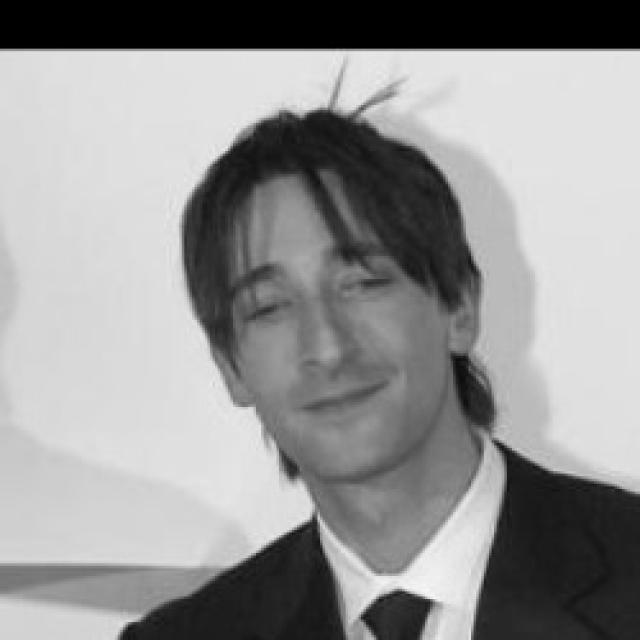real: (216, 170, 448, 476), (238, 266, 402, 328)
